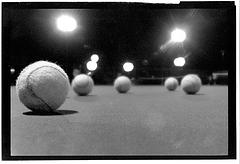tennis ball: (16, 59, 70, 117), (71, 73, 95, 98), (179, 71, 203, 95), (113, 75, 131, 93), (163, 76, 177, 90)
